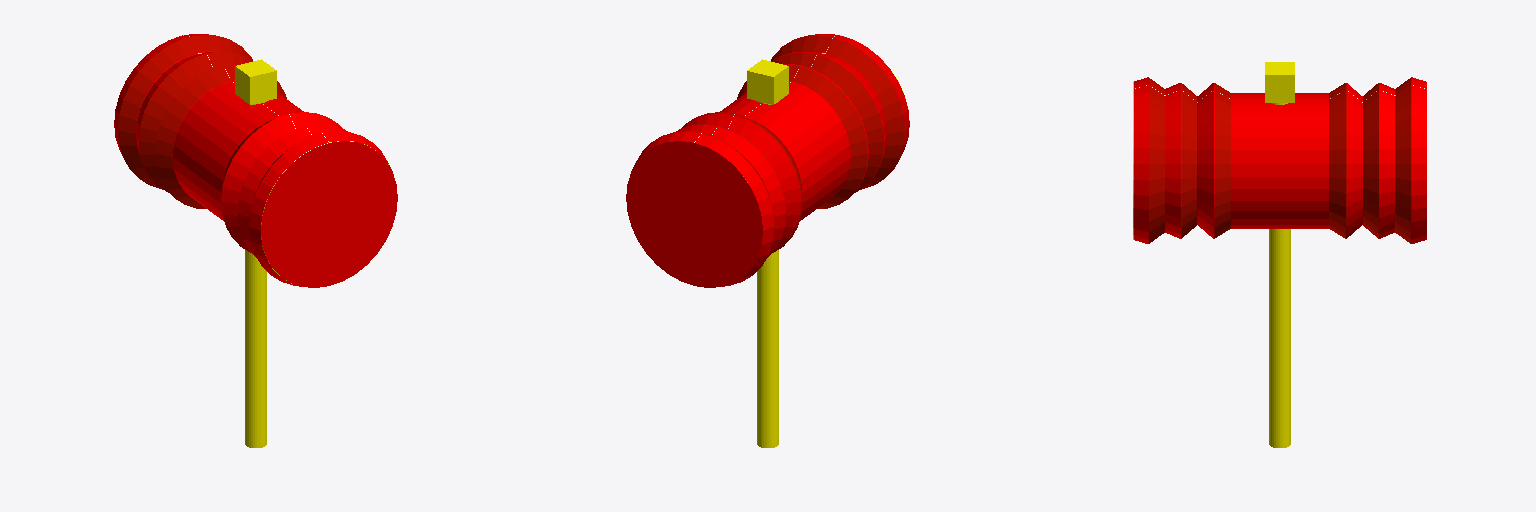
3 views of the same model, side by side, from view 1: azimuth 30°, elevation 25°; view 2: azimuth 150°, elevation 25°; view 3: azimuth 270°, elevation 25° (orthographic).
Parts seen in each view (by area): view 1: 円柱; view 2: 円柱; view 3: 円柱.
Boxes of the visible parts, x1=… form: 円柱: x1=114, y1=34, x2=397, y2=447; 円柱: x1=626, y1=34, x2=909, y2=447; 円柱: x1=1133, y1=62, x2=1426, y2=447.
Bounding box in the file's own units: 1.67 × 4.14 × 2.93.
1 materials, 1 textured.